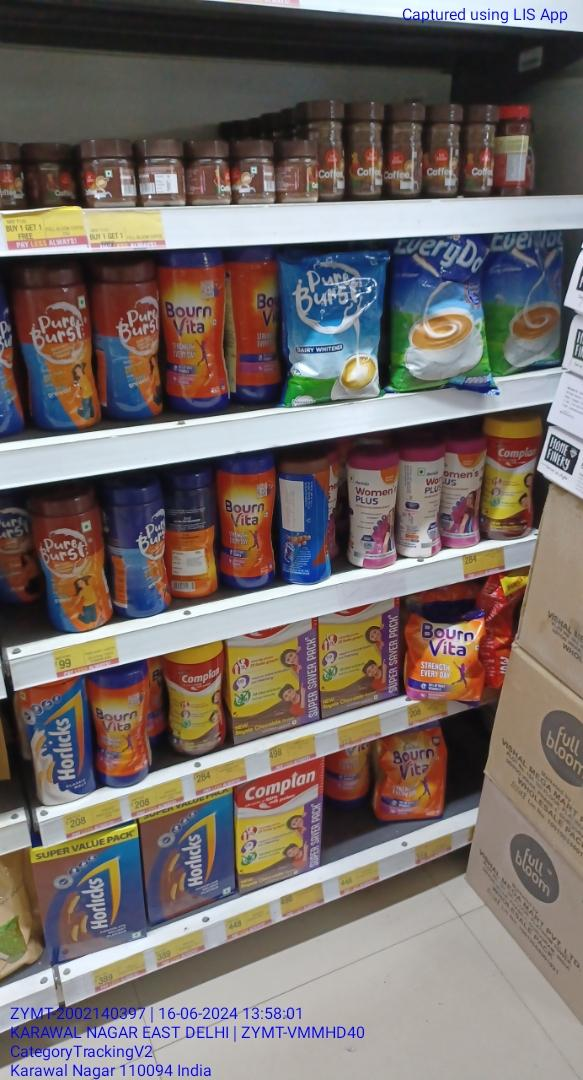HORLICK_CLASSIC_MALT_500_G_JAR: (22, 681, 91, 806)
